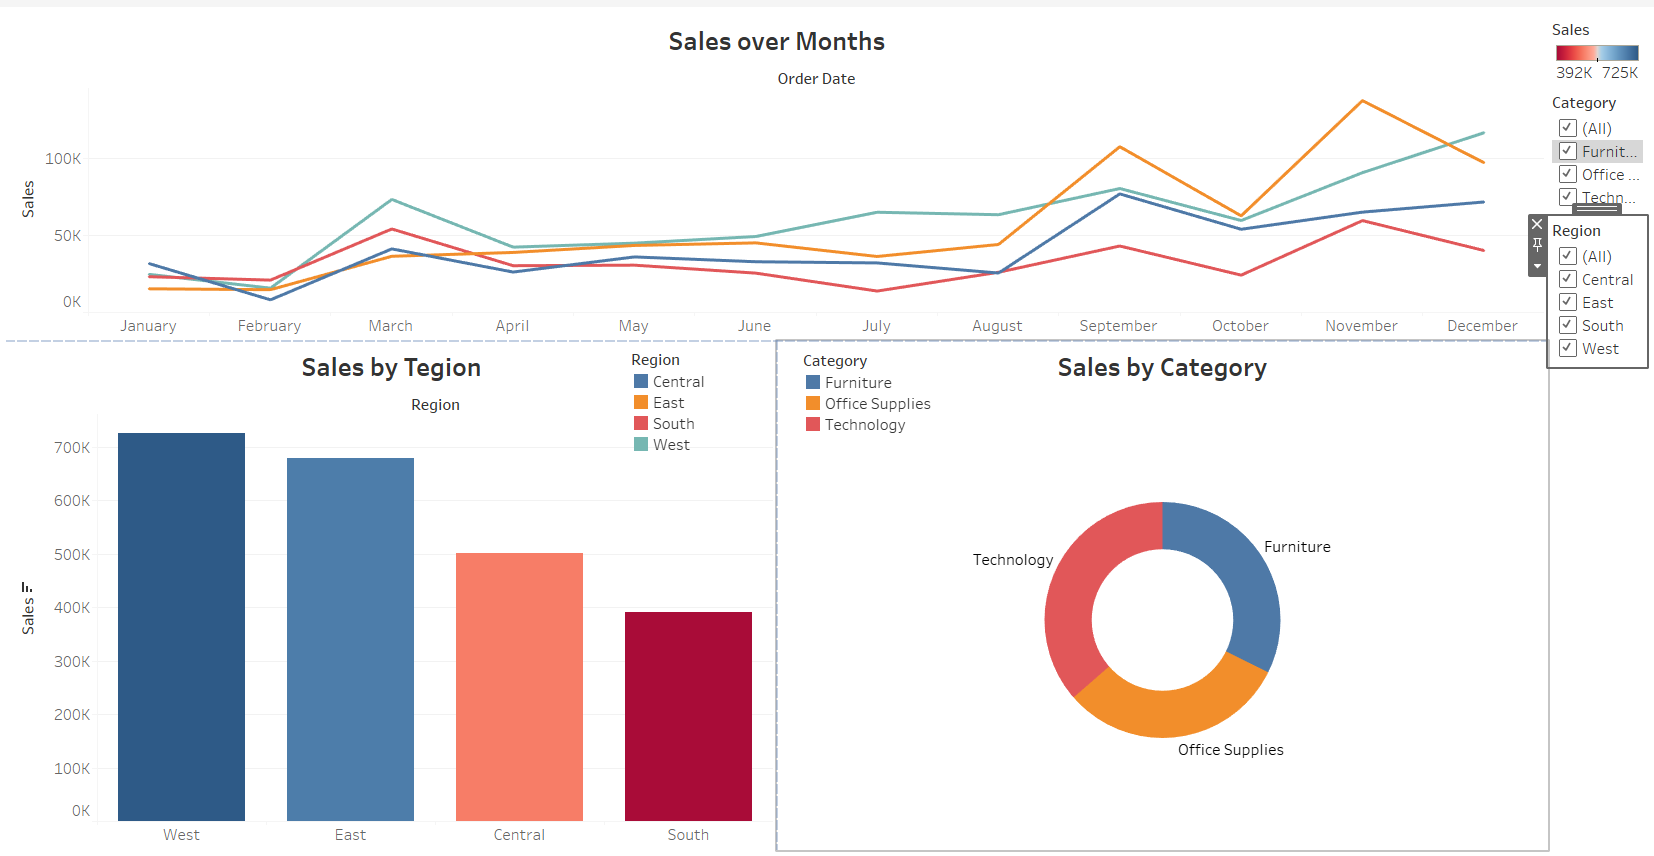

This screenshot's page, from the dashboard's own definition file:
{"tool":"tableau","page":{"name":"Supperstor Dashboard Design","canvas":[1000,1000],"units":"permille","ordinal":0},"visuals":[{"type":"worksheet","title":"Sales over Months","mark":"Automatic","rows":["sales"],"cols":["order_date"],"box":[4.8,9.4,930.6,383]},{"type":"legend","title":"Sales by Region","param":"[federated.0sn89ki0pcrpkw197njbt14qaa9k].[sum:sales:qk]","box":[935.4,9.4,59.8,85.8]},{"type":"filter","title":"Sales by Category","param":"[federated.0sn89ki0pcrpkw197njbt14qaa9k].[none:category:nk]","box":[935.4,95.2,59.8,150.4]},{"type":"filter","title":"Sales by Region","param":"[federated.0sn89ki0pcrpkw197njbt14qaa9k].[none:region:nk]","box":[935.4,245.6,59.8,177.4]},{"type":"worksheet","title":"Sales by Region","mark":"Automatic","rows":["sales"],"cols":["region"],"box":[4.8,392.4,465.3,598.2]},{"type":"worksheet","title":"Sales by Category","mark":"Pie","rows":["Calculation_1584704124325945347","Calculation_1584704124325945347"],"box":[470.1,392.4,465.3,598.2]},{"type":"legend","title":"Sales over Months","param":"[federated.0sn89ki0pcrpkw197njbt14qaa9k].[none:region:nk]","box":[382,401.9,84.5,124.6]},{"type":"legend","title":"Sales by Category","param":"[federated.0sn89ki0pcrpkw197njbt14qaa9k].[none:category:nk]","box":[485.8,403.1,84.5,99.9]}]}

Visuals, with their boxes on the dashboard's canvas, which has no fixed pixel size, in thousandths of its width and height (x1, y1, x2, y2). These are canvas units, not pixel positions in the 1654x856 screenshot, which may show the page scaled, cropped or inside an application window:
"Sales over Months" worksheet: <bbox>5, 9, 935, 392</bbox>
"Sales by Region" legend: <bbox>935, 9, 995, 95</bbox>
"Sales by Category" filter: <bbox>935, 95, 995, 246</bbox>
"Sales by Region" filter: <bbox>935, 246, 995, 423</bbox>
"Sales by Region" worksheet: <bbox>5, 392, 470, 991</bbox>
"Sales by Category" worksheet (Pie marks): <bbox>470, 392, 935, 991</bbox>
"Sales over Months" legend: <bbox>382, 402, 466, 526</bbox>
"Sales by Category" legend: <bbox>486, 403, 570, 503</bbox>
